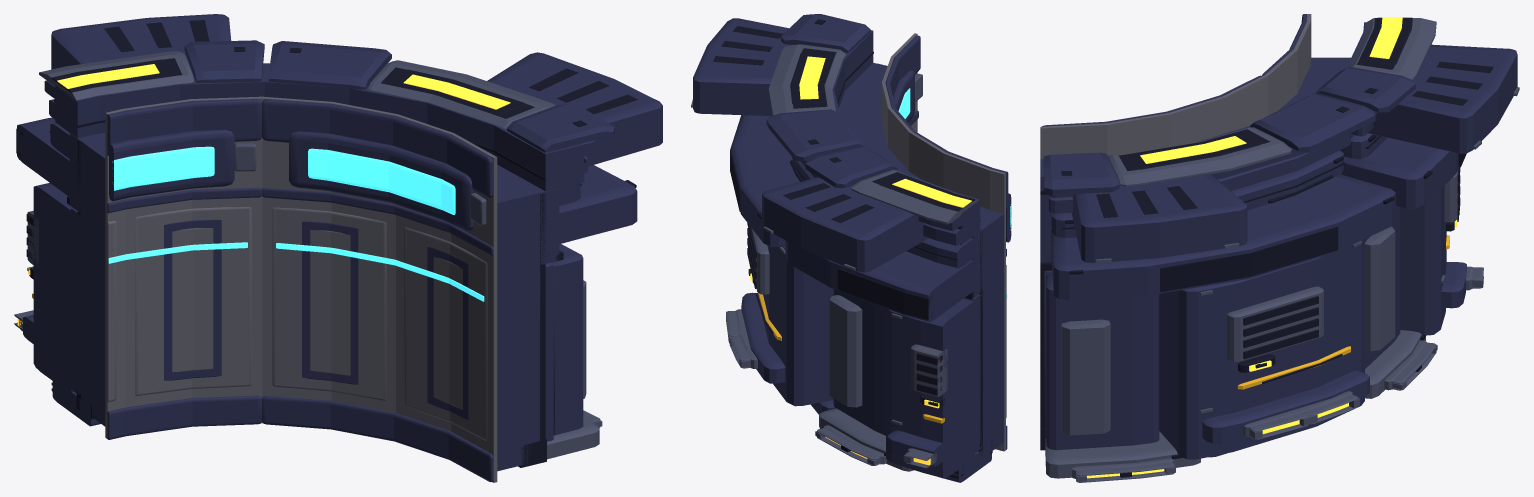
The model's file is hull.arc1.a.glb.
3 renders of one model, left to right at view 1: azimuth 30°, elevation 25°; view 2: azimuth 150°, elevation 25°; view 3: azimuth 270°, elevation 25°, orthographic. The views are drawn at different scales.
Visible parts, largest first — view 1: GEO-hull.arc1.a; view 2: GEO-hull.arc1.a; view 3: GEO-hull.arc1.a.
Boxes of the visible parts, x1=… form: GEO-hull.arc1.a: x1=14, y1=14, x2=662, y2=482; GEO-hull.arc1.a: x1=691, y1=14, x2=1011, y2=482; GEO-hull.arc1.a: x1=1040, y1=14, x2=1519, y2=482.
Size of the model in its own units: 1.42 by 1 by 1.42.
